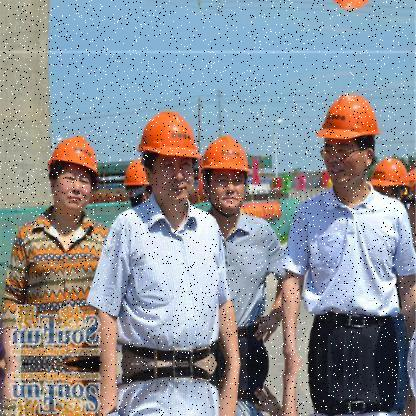helmet: (318, 88, 381, 185), (140, 107, 195, 204), (47, 130, 99, 215), (205, 132, 254, 216), (371, 155, 413, 204), (124, 161, 151, 211)
